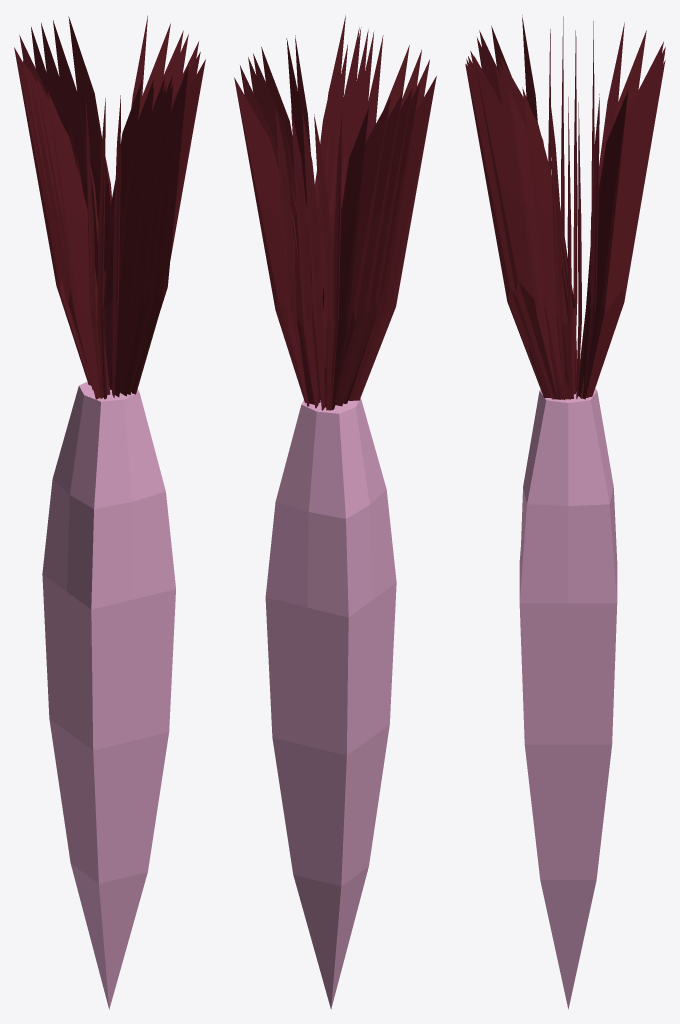
Rendered from Ps1_Carrot_curse1.fbx.
The picture shows the model from 3 angles, left to right: view 1: azimuth 30°, elevation 25°; view 2: azimuth 150°, elevation 25°; view 3: azimuth 270°, elevation 25°; orthographic projection. The views are drawn at different scales.
Parts seen in each view (by area): view 1: Carrot, Cube.016; view 2: Carrot, Cube.016; view 3: Carrot, Cube.016.
Part boxes in pixels (x1,y1,x2,y2): Carrot: (42, 381, 175, 1009); Cube.016: (14, 15, 205, 399); Carrot: (265, 398, 396, 1009); Cube.016: (234, 15, 436, 410); Carrot: (519, 388, 617, 1009); Cube.016: (465, 15, 665, 400).
Bounding box in the file's own units: 180 × 1011 × 190.
